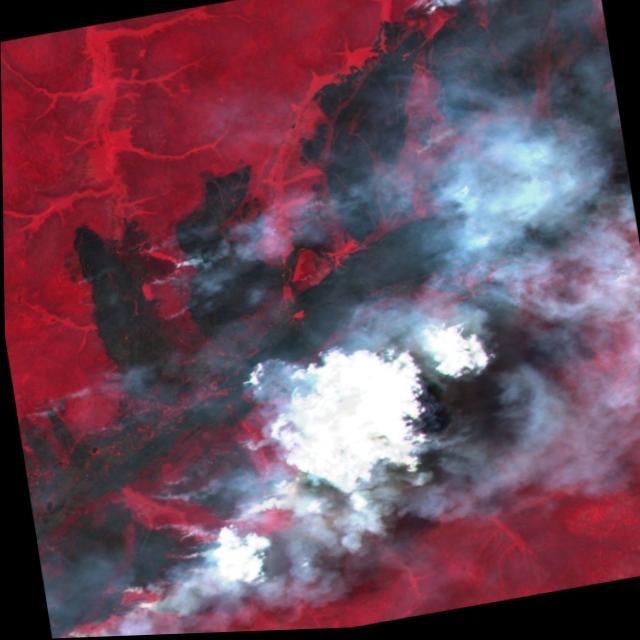fire: (389, 126, 456, 168), (108, 572, 155, 607), (19, 397, 68, 429), (141, 483, 180, 521), (136, 517, 193, 542), (402, 0, 449, 29), (60, 377, 91, 411), (160, 252, 199, 279), (140, 271, 183, 295), (157, 304, 190, 330), (67, 295, 103, 318), (52, 617, 85, 639), (90, 418, 116, 442), (64, 273, 96, 292), (138, 244, 163, 264)
